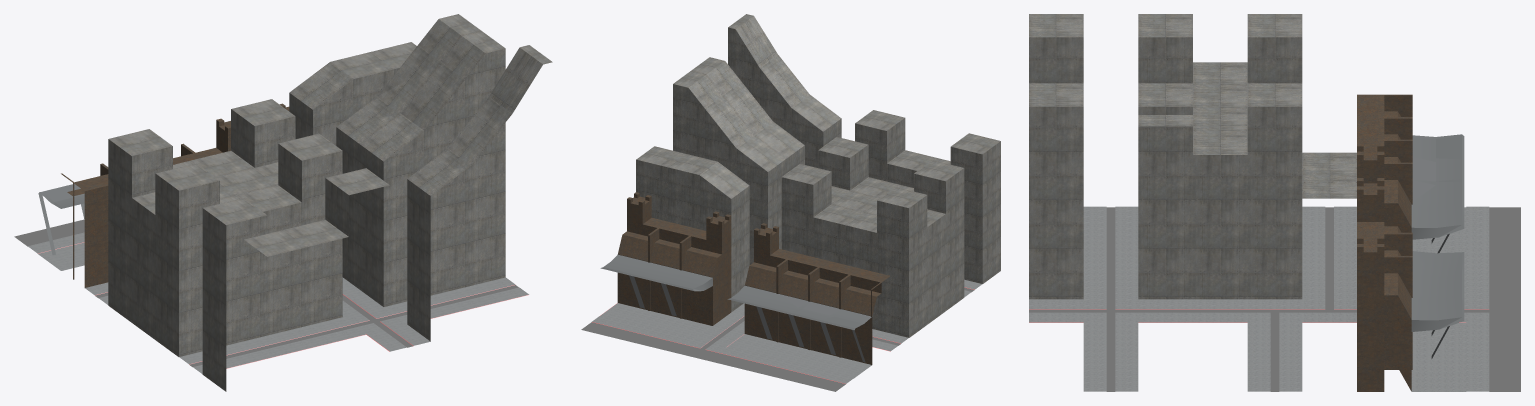
File: Section1.gltf
3 views of the same model, side by side, from view 1: azimuth 30°, elevation 25°; view 2: azimuth 150°, elevation 25°; view 3: azimuth 270°, elevation 25° (orthographic). The views are drawn at different scales.
Visible parts, largest first — view 1: Section1; view 2: Section1; view 3: Section1.
Boxes of the visible parts, x1,y1,x2,y2 form: Section1: [14, 14, 552, 391]; Section1: [581, 14, 1000, 391]; Section1: [1029, 14, 1520, 391].
Size of what is drawn, in the model's own units: 128 by 93.6 by 144.
6 materials, 3 textured.
